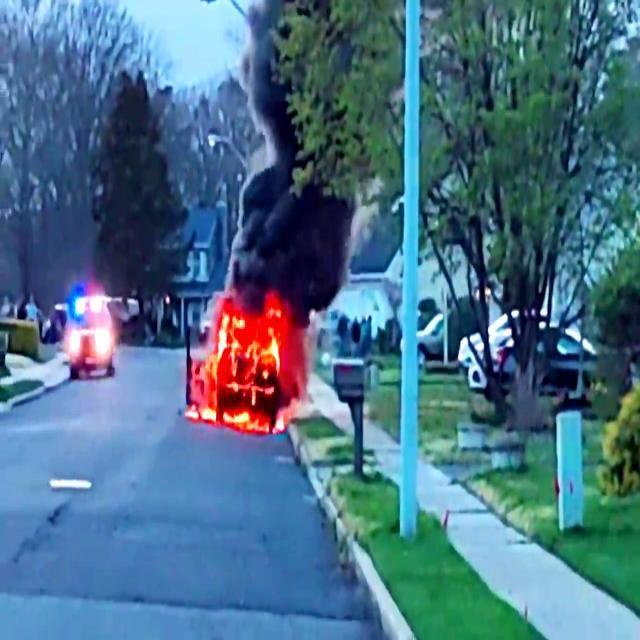Fire: (193, 299, 294, 426)
Smoke: (230, 64, 346, 290)
